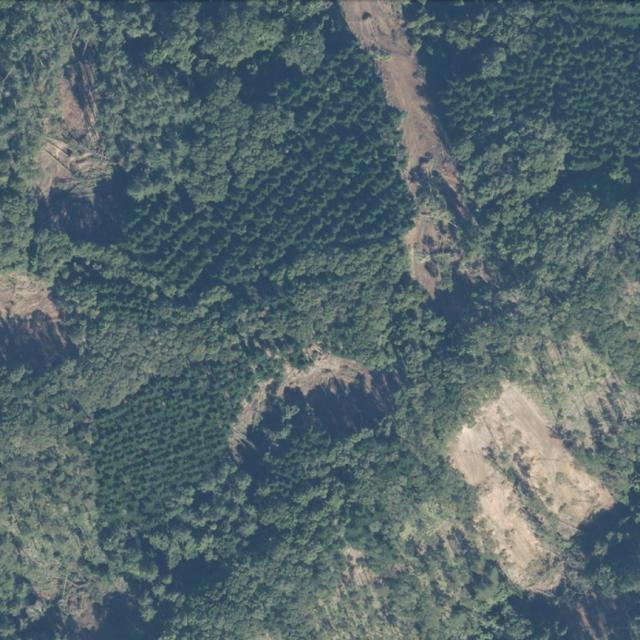landslide: (340, 0, 466, 298), (450, 384, 616, 594), (35, 79, 101, 198), (0, 273, 70, 369), (228, 380, 274, 462), (279, 353, 372, 392)
